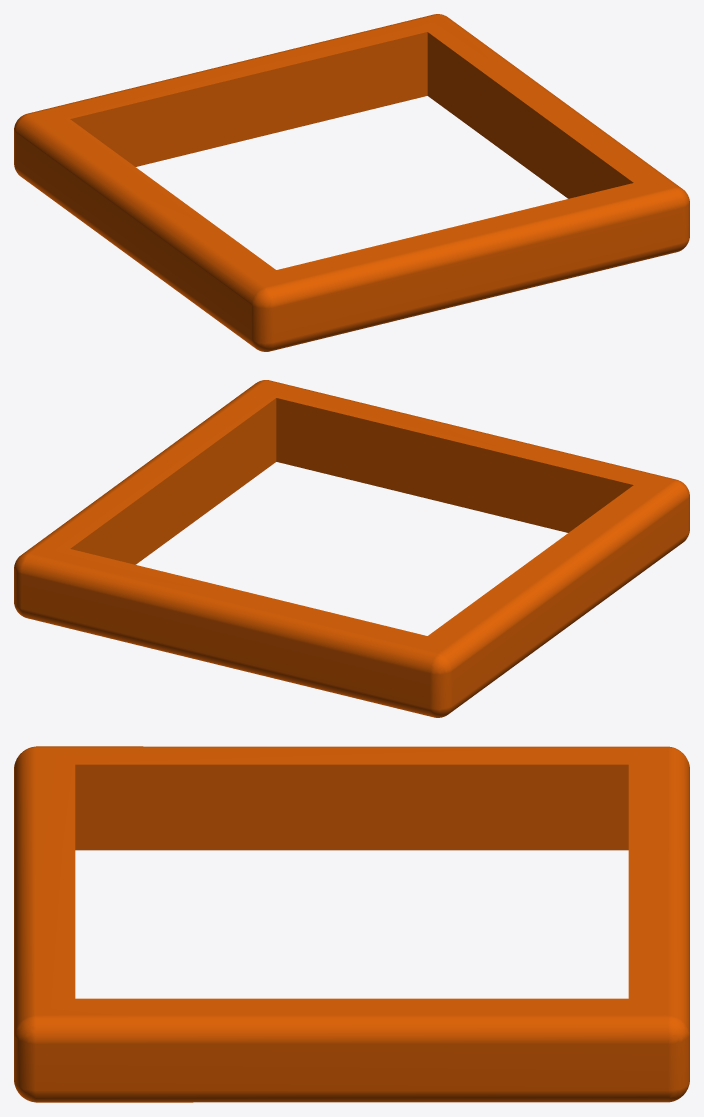
File: 7457Bumpers.fbx
3 views of the same model, one above another, from view 1: azimuth 30°, elevation 25°; view 2: azimuth 150°, elevation 25°; view 3: azimuth 270°, elevation 25° (orthographic). The views are drawn at different scales.
Visible parts, largest first — view 1: Bumpers; view 2: Bumpers; view 3: Bumpers.
Part boxes in pixels (x1,y1,x2,y2): Bumpers: [14, 14, 689, 351]; Bumpers: [14, 380, 689, 717]; Bumpers: [14, 746, 689, 1102].
Size of the model in its own units: 90.78 by 12.7 by 90.74.
